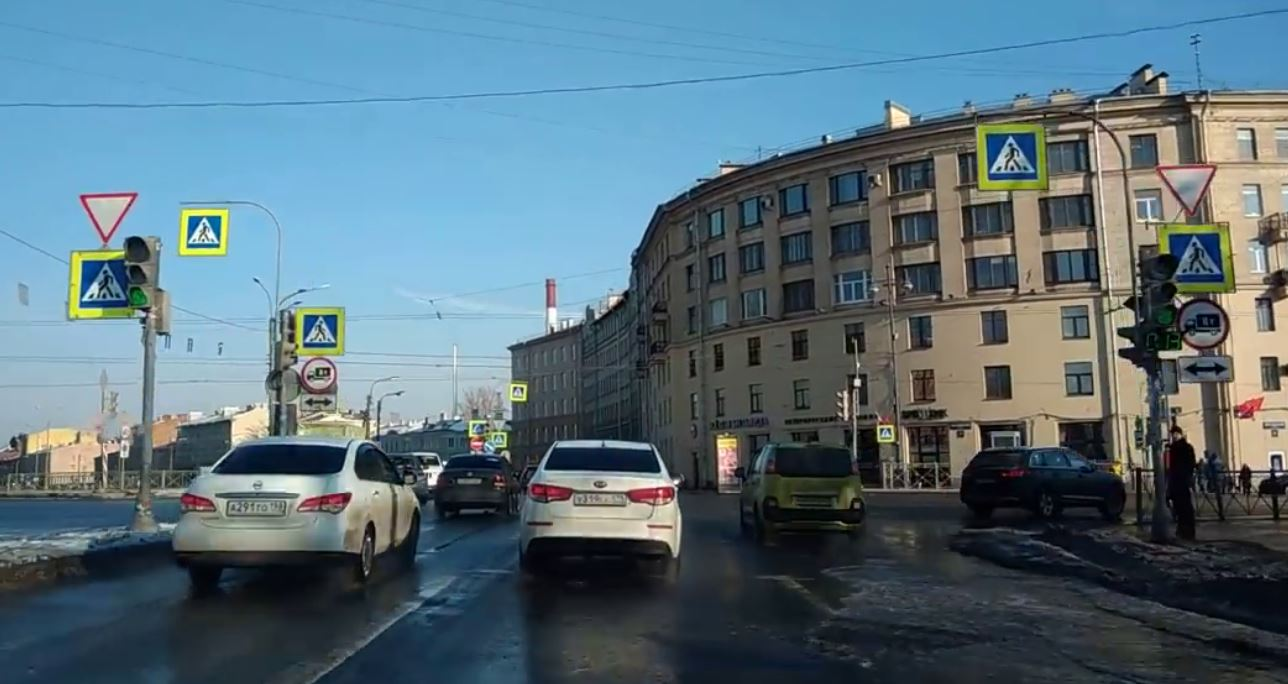Yaya Gecidi: (1168, 229, 1231, 283), (81, 260, 128, 310), (988, 133, 1037, 178), (186, 215, 220, 253)
